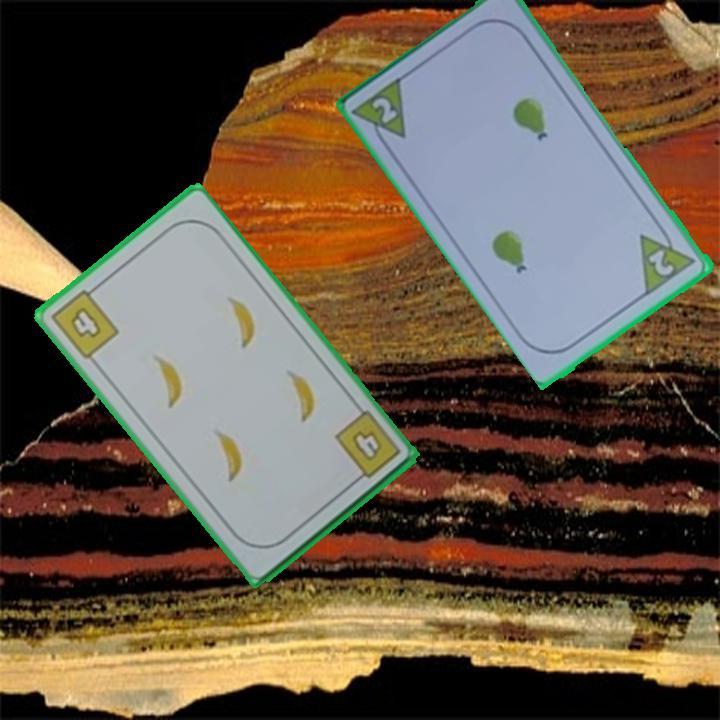2p: (645, 246, 678, 280), (369, 93, 401, 127)
4b: (46, 281, 122, 363), (330, 406, 404, 488)
